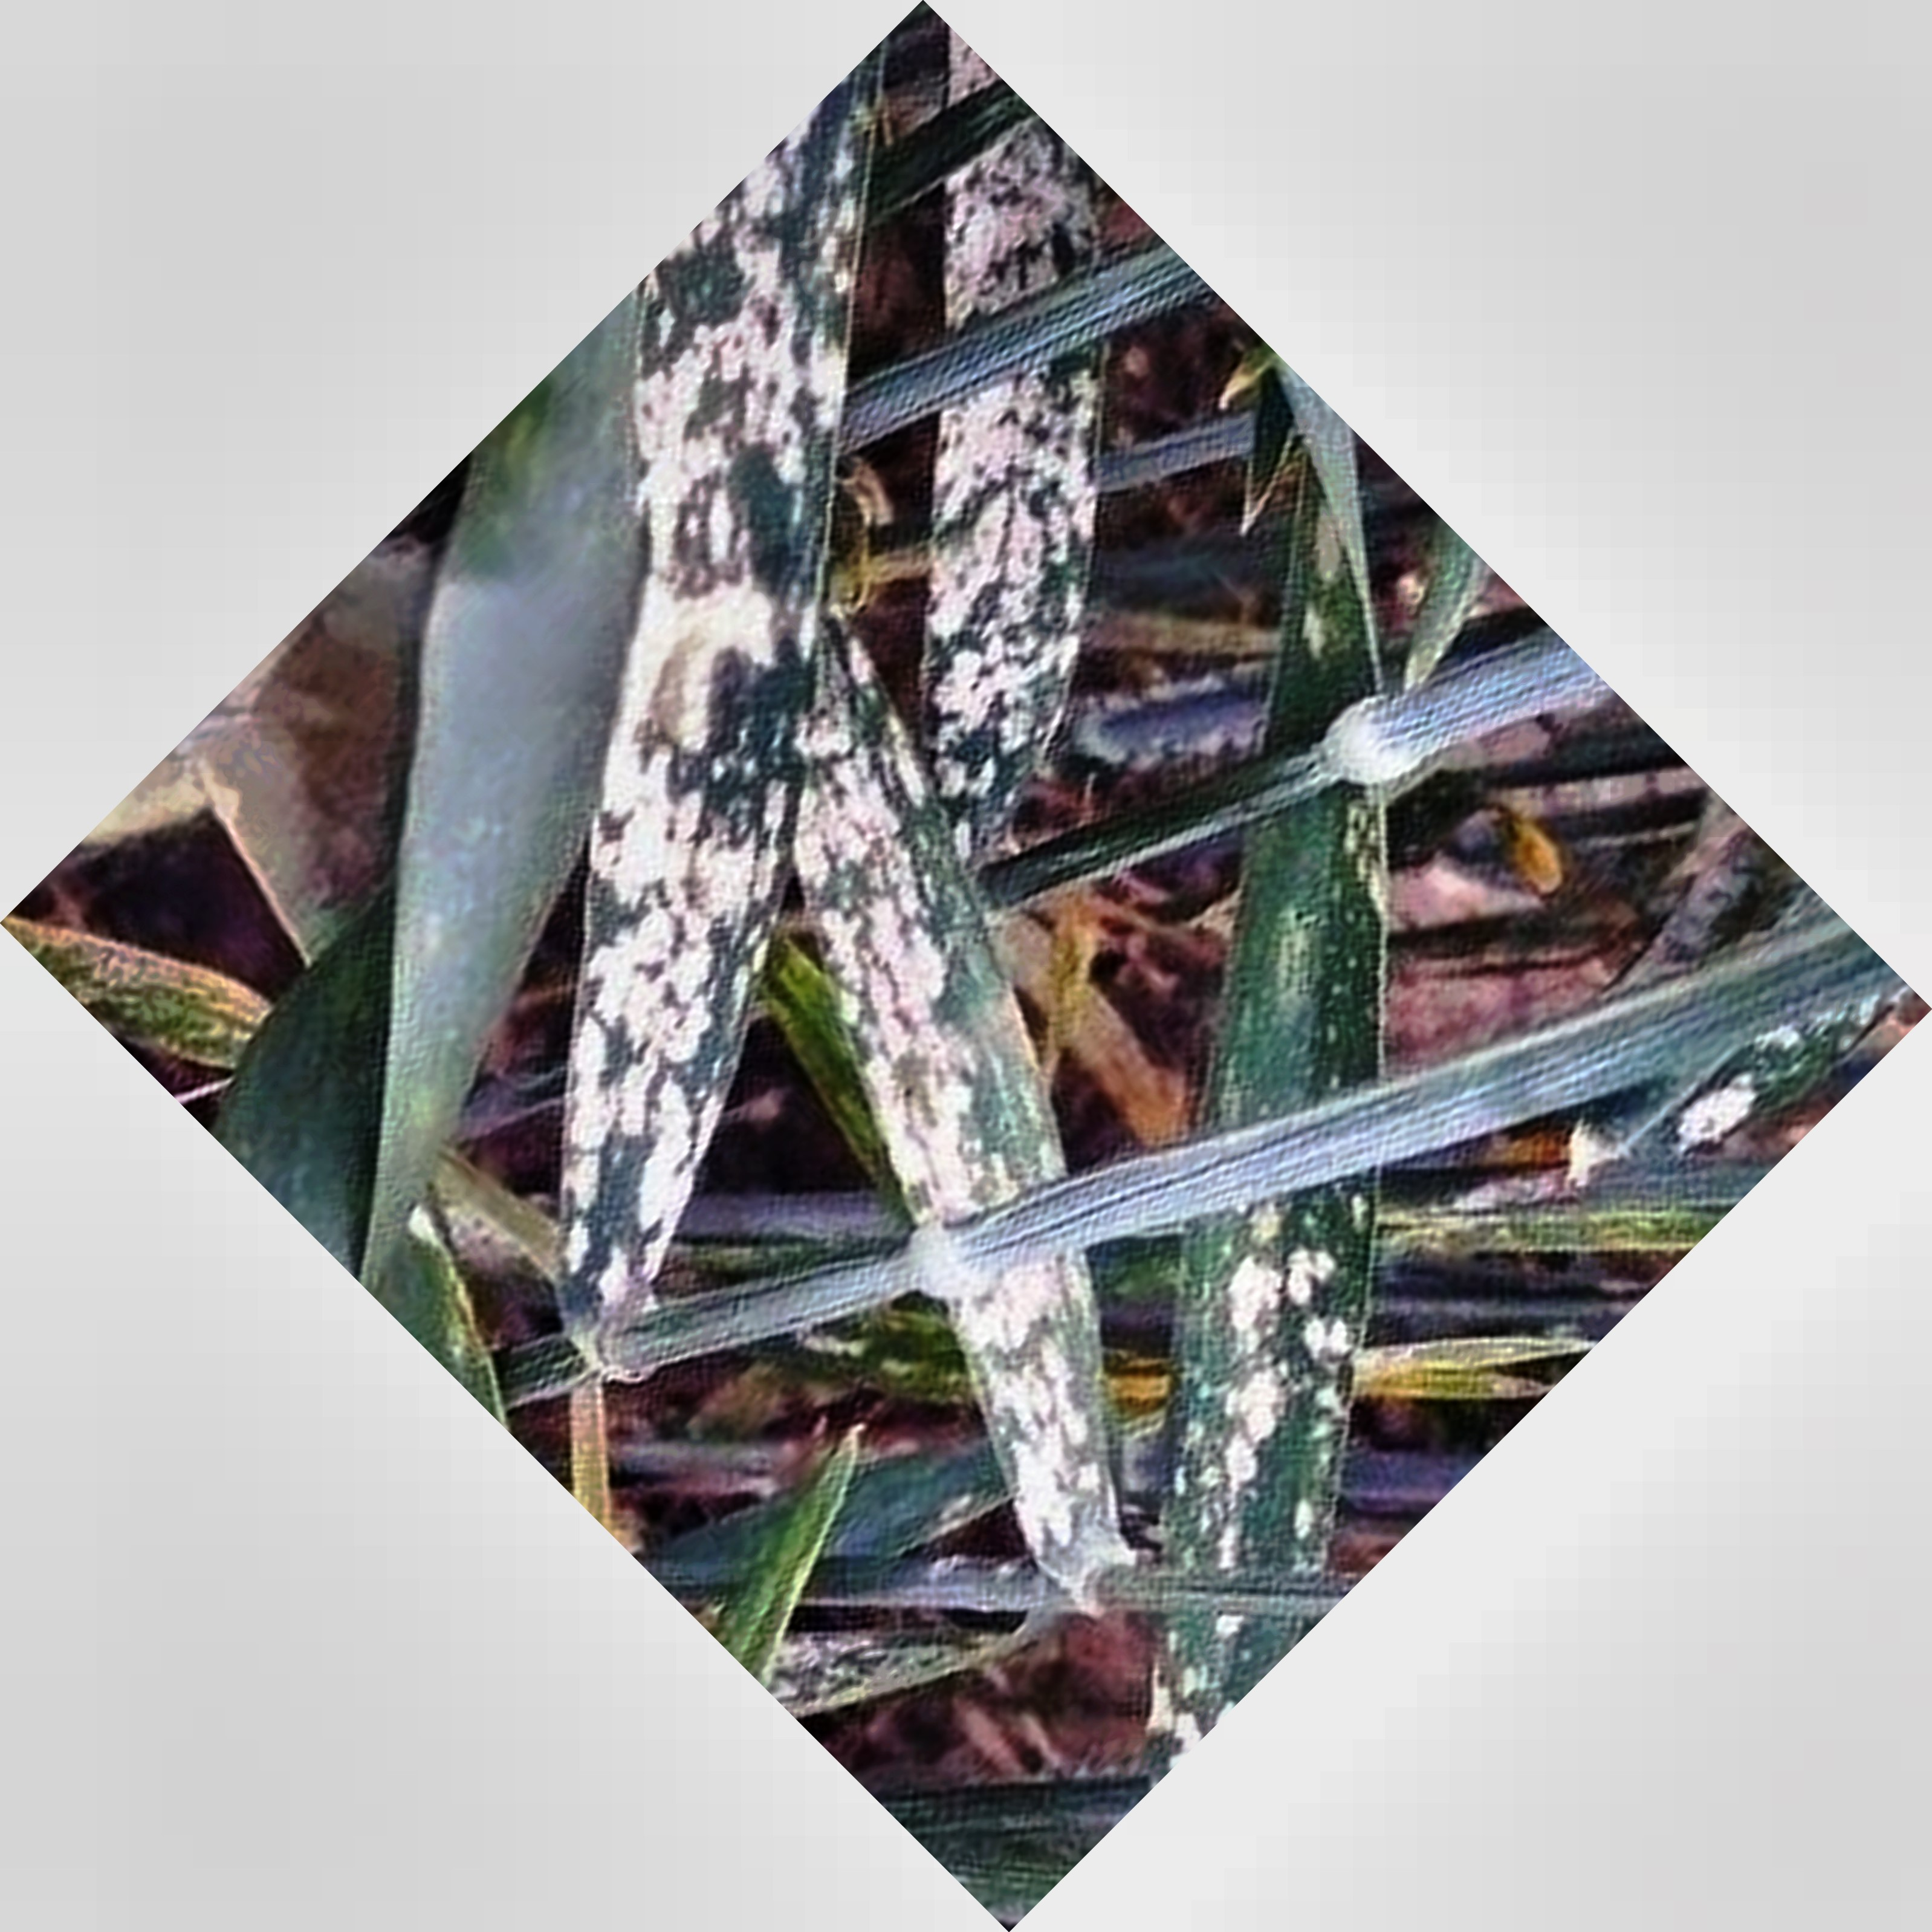Powdery Mildew: (533, 241, 816, 1238), (833, 863, 1138, 1543), (895, 370, 1138, 766), (1173, 1192, 1407, 1562)
